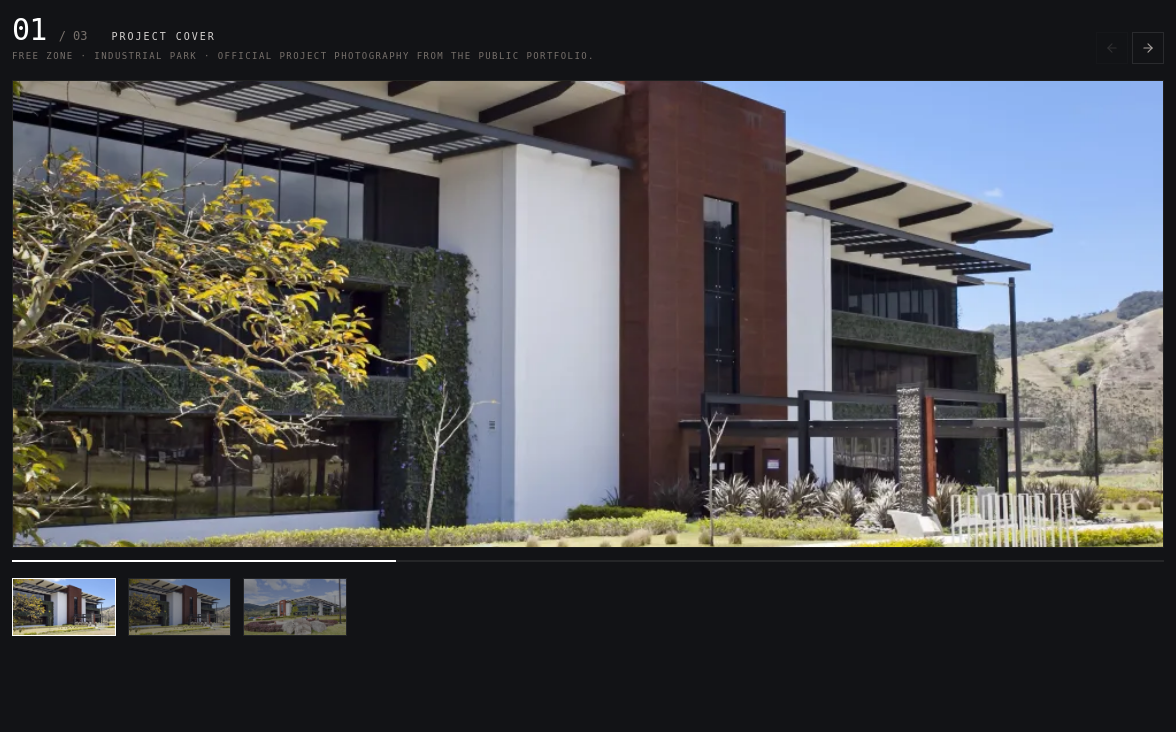
Test: ARCH_TECH SpatialRail showcase media › selects a thumbnail and keeps one active image in the main frame
Click the button with test id "rail-thumb-gallery-2" at (295, 607), box [243,578,347,636]
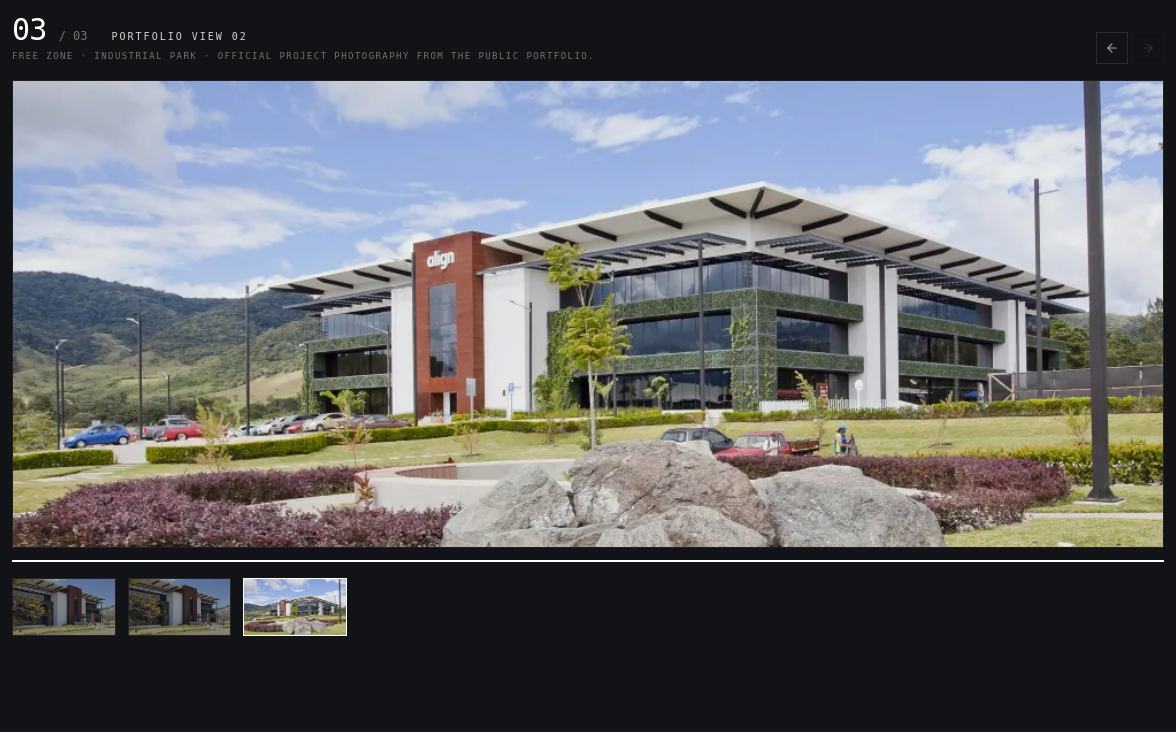
Check: the text with test id "rail-index" reads "03", box [12,12,47,47]
